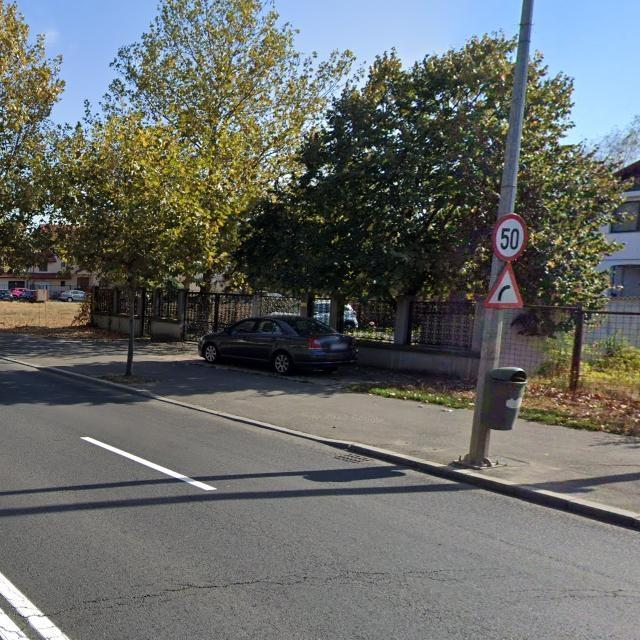forb_speed_over_50: (493, 214, 528, 262)
